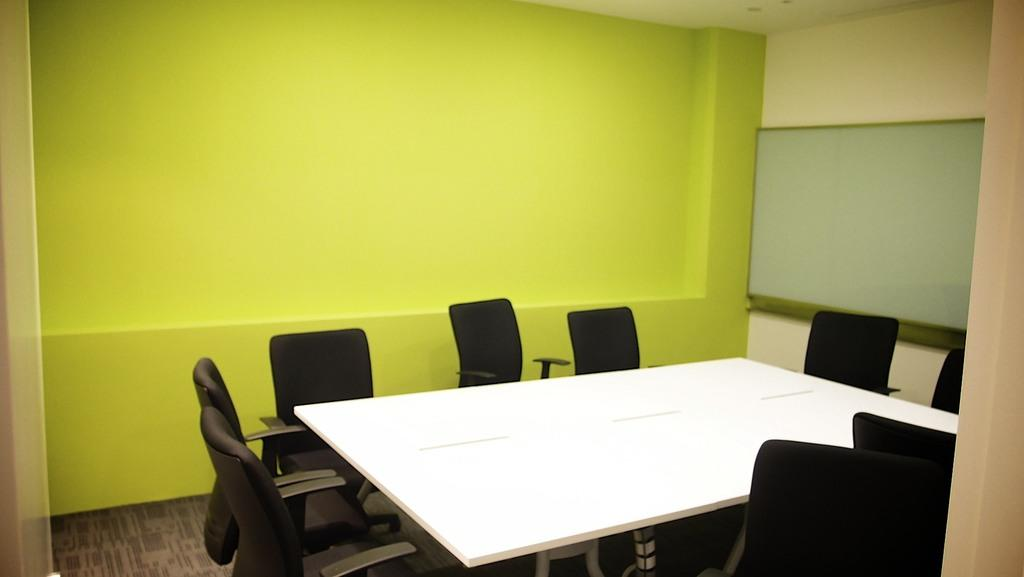Chair: (190, 357, 372, 570), (198, 403, 419, 576), (691, 435, 952, 576), (259, 325, 404, 535), (449, 295, 572, 389), (790, 315, 908, 406), (566, 304, 661, 377), (850, 412, 959, 469), (932, 346, 964, 416)
